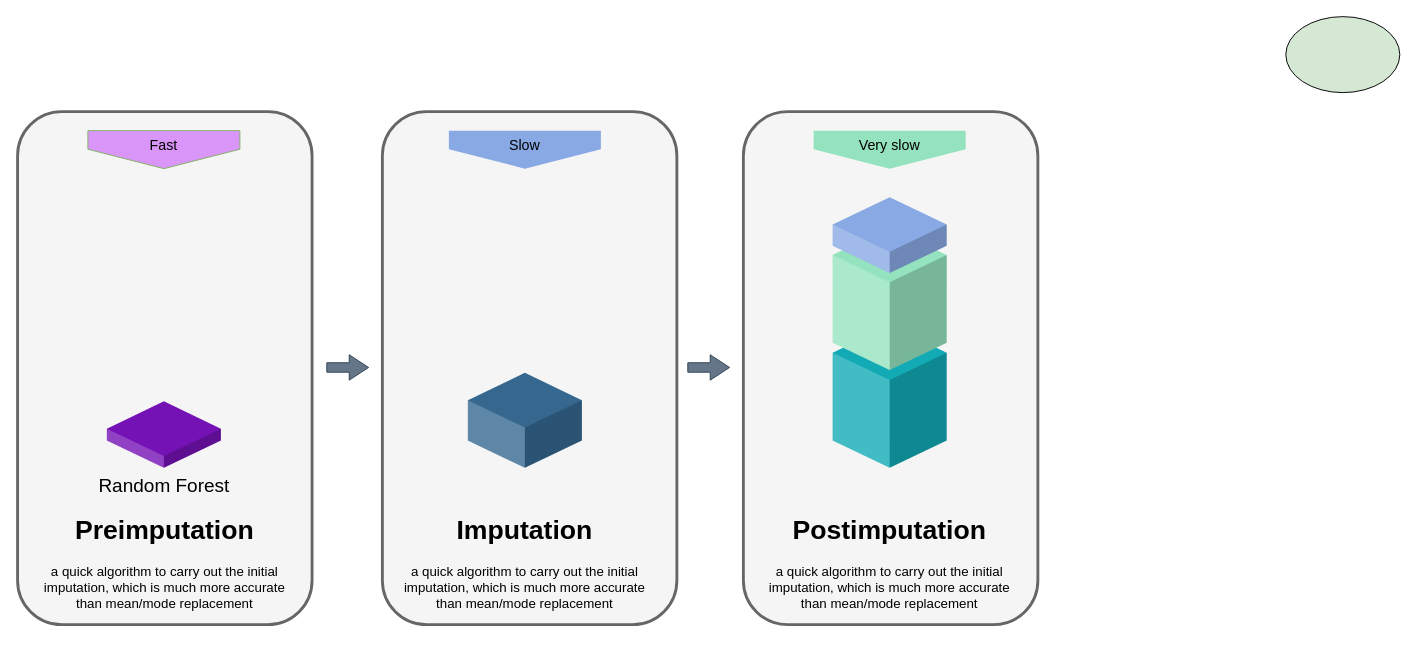
The diagram is 1416 pixels wide and 656 high, and some of its shapes have lost their labels. The shapes that lost their labels are listed below. From the top down, each one's box as (x1, y1, x2, y2) in pixels, then its label:
(832, 325, 946, 467): GBM / XGBoost / DL / Ensemble
(467, 372, 581, 467): ELNET
